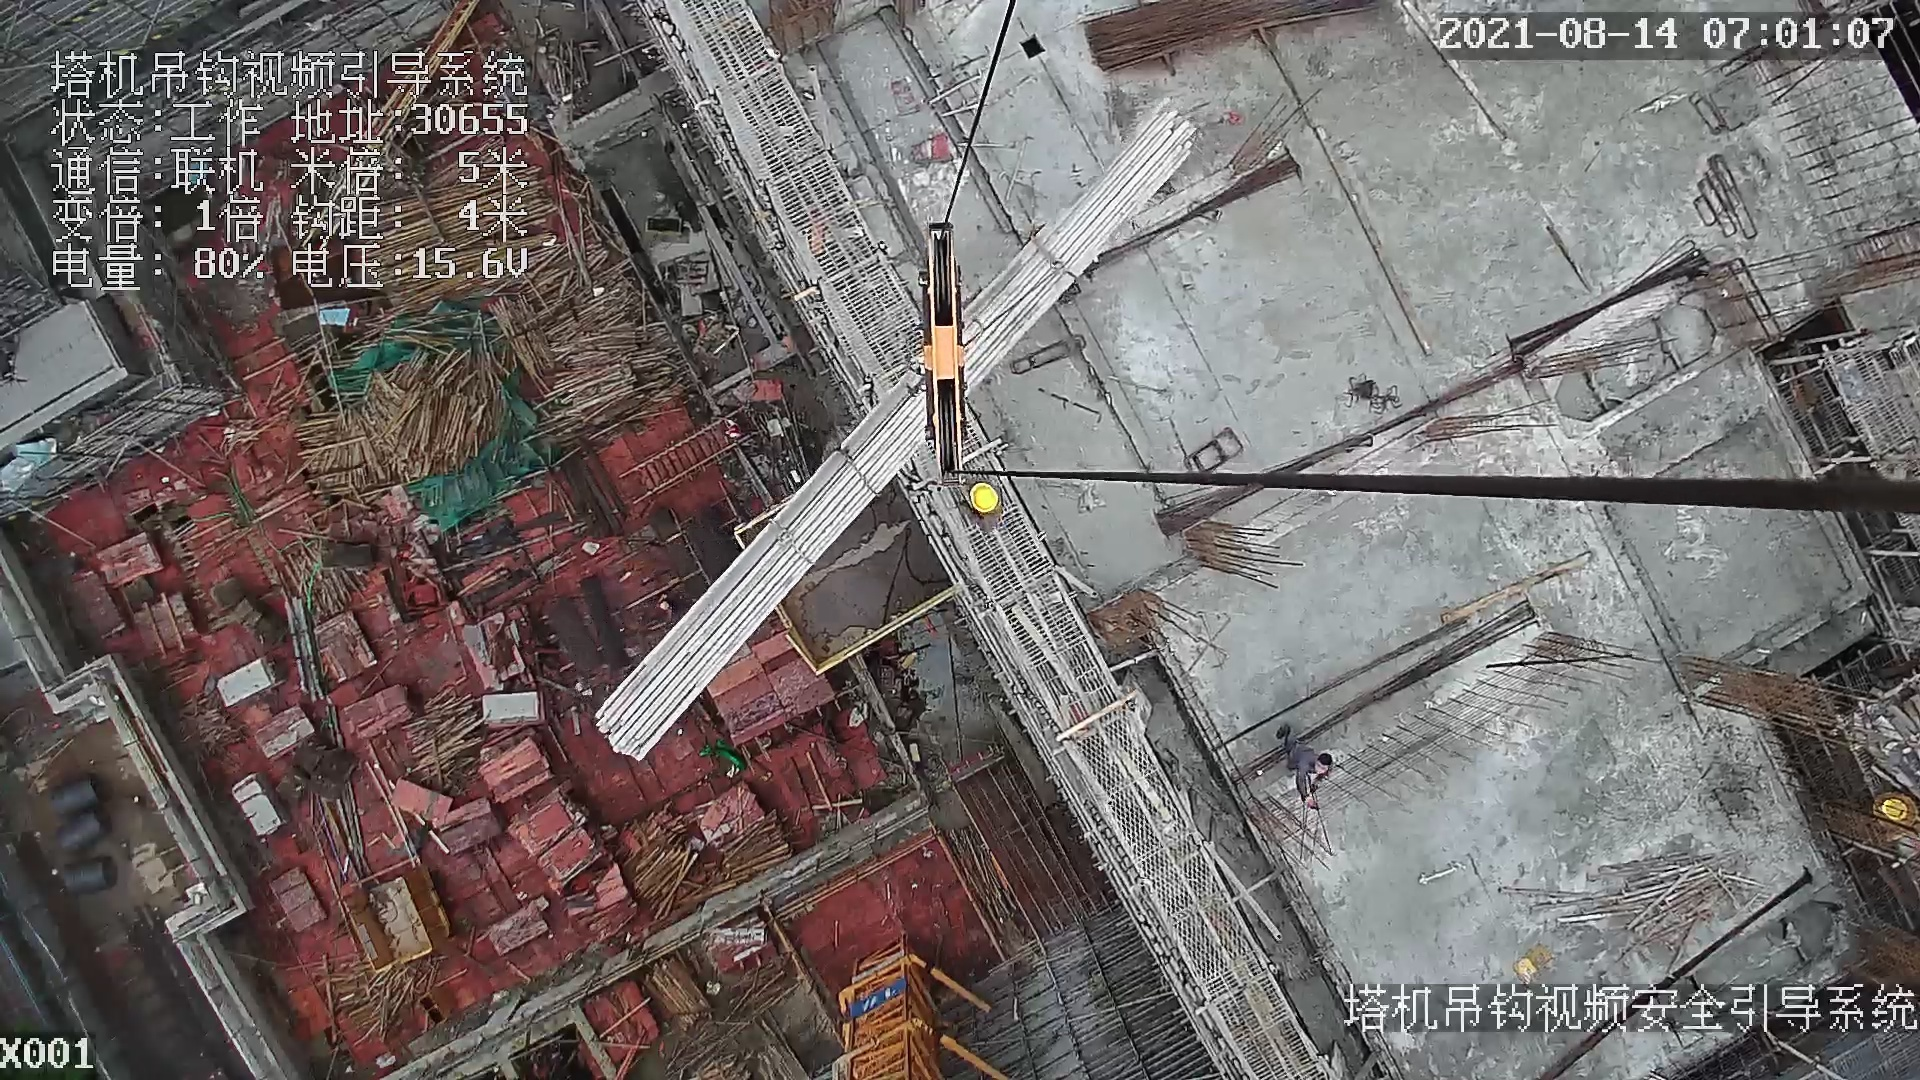helmet: (966, 482, 1005, 517)
hook: (894, 223, 983, 476)
person: (1274, 718, 1332, 810), (956, 474, 1005, 530)
